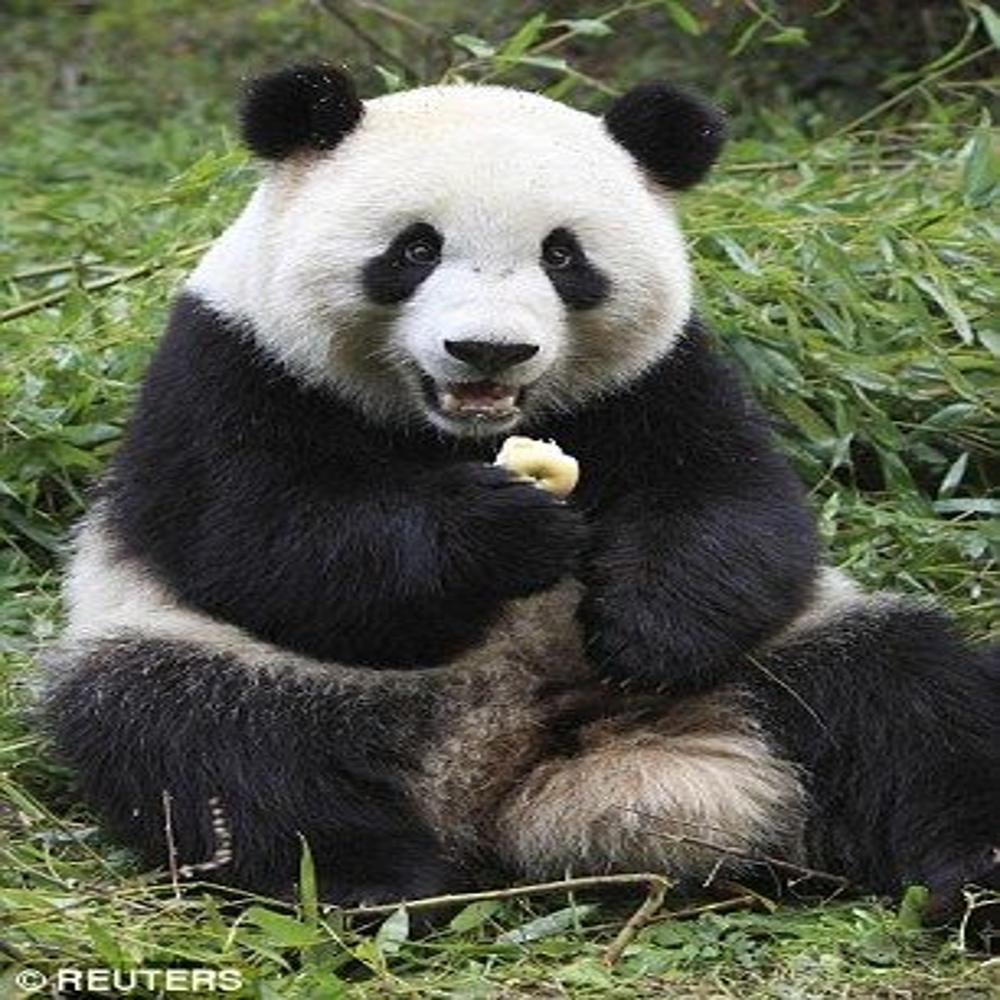panda: (60, 48, 1000, 869)
